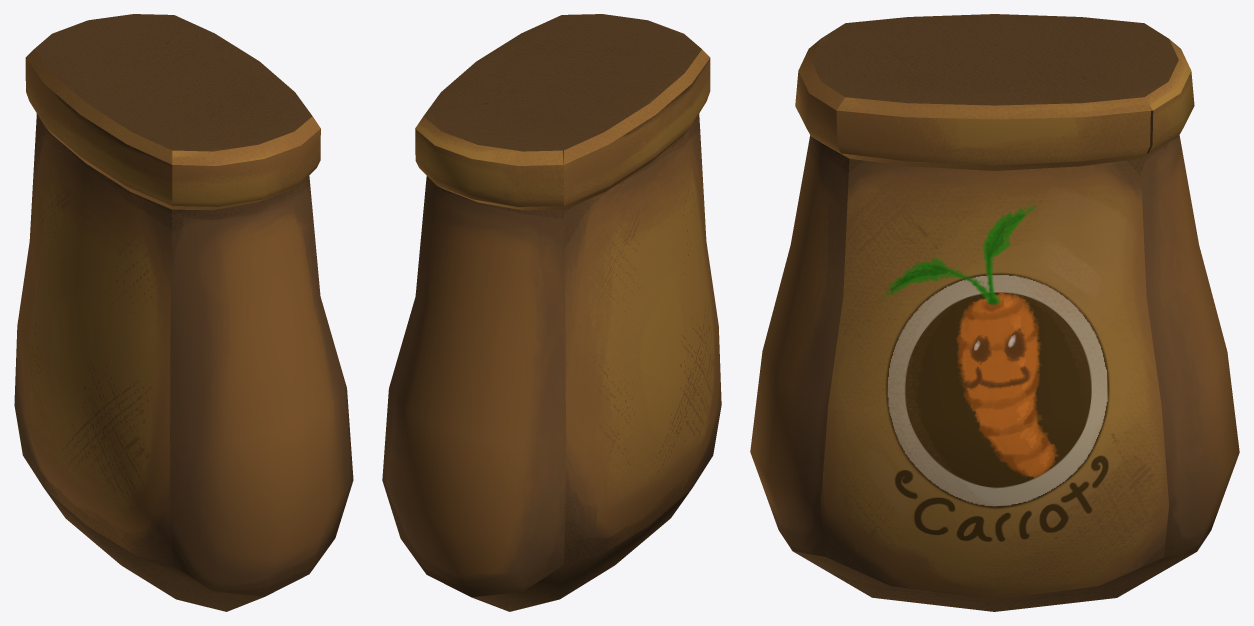
The model's file is SeedBag.fbx.
3 views of the same model, side by side, from view 1: azimuth 30°, elevation 25°; view 2: azimuth 150°, elevation 25°; view 3: azimuth 270°, elevation 25° (orthographic). The views are drawn at different scales.
Parts seen in each view (by area): view 1: SeedBag; view 2: SeedBag; view 3: SeedBag.
Part boxes in pixels (x1=…): SeedBag: x1=14, y1=14, x2=353, y2=611; SeedBag: x1=382, y1=14, x2=721, y2=611; SeedBag: x1=750, y1=14, x2=1239, y2=611.
Size of the model in its own units: 13.98 by 27.16 by 22.56.
